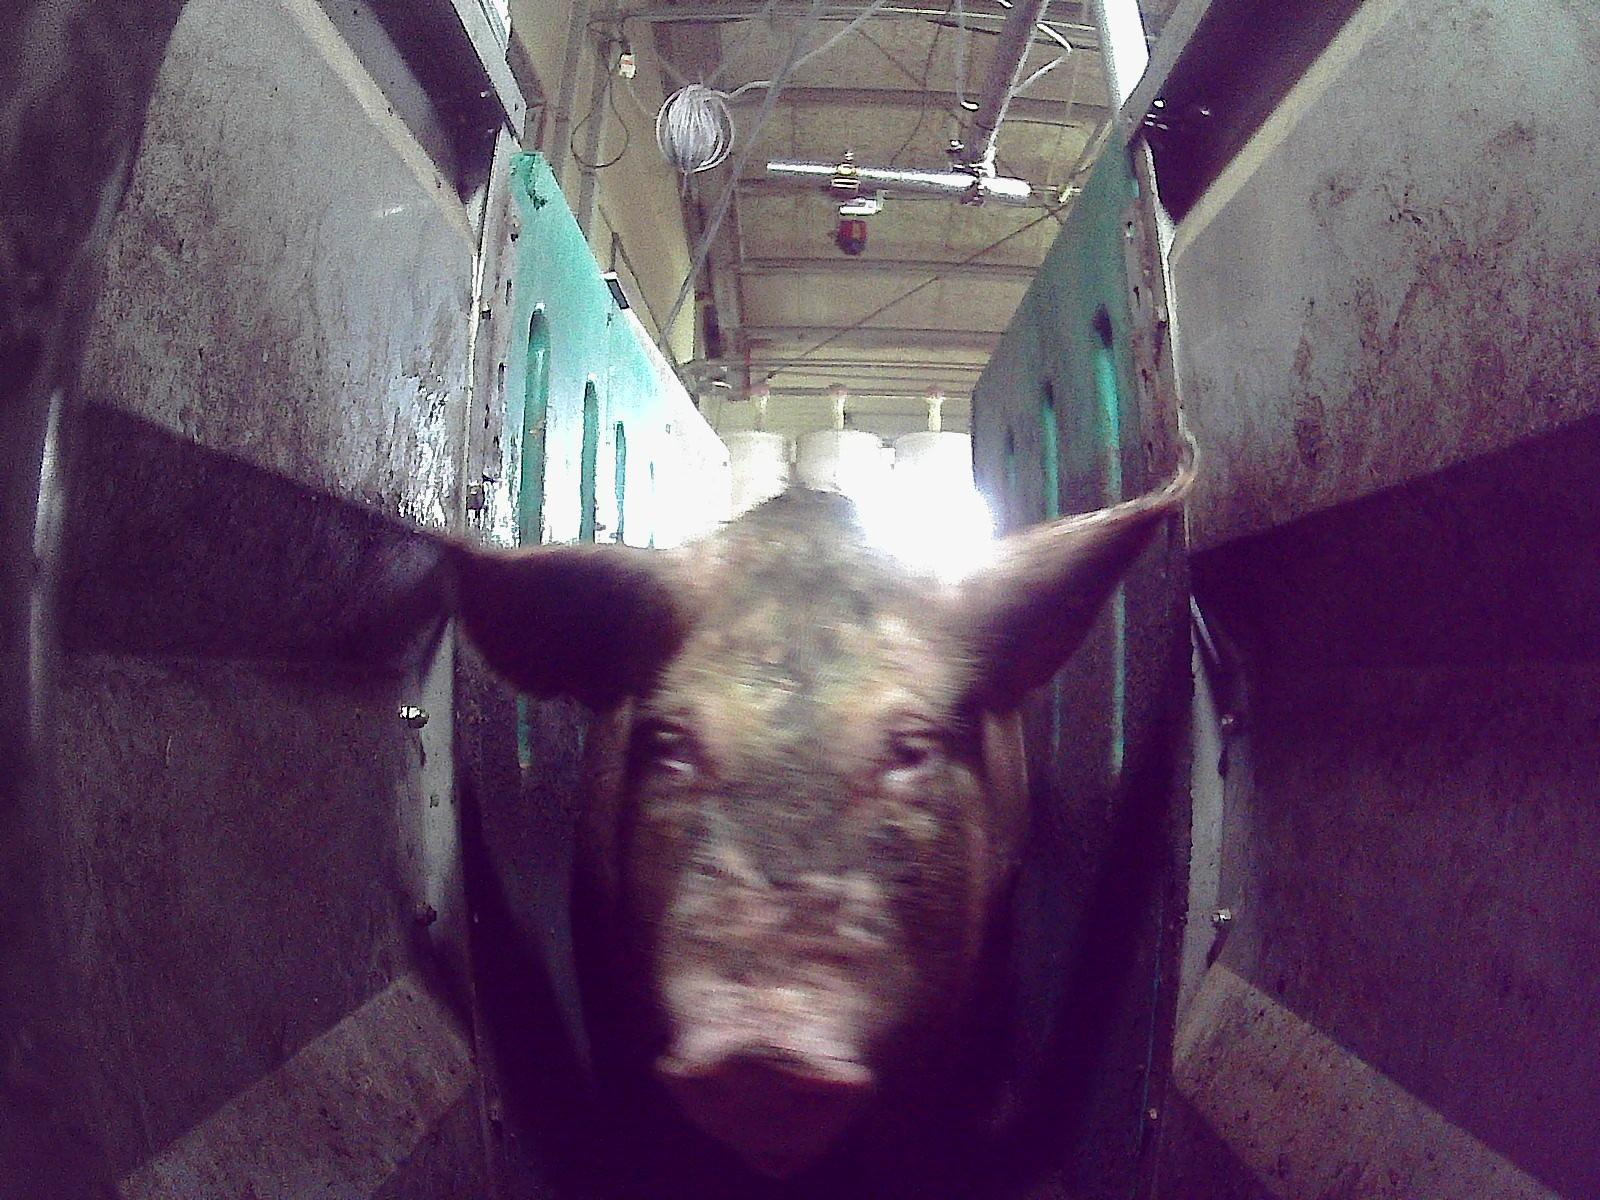Face: (595, 553, 1020, 1190)
